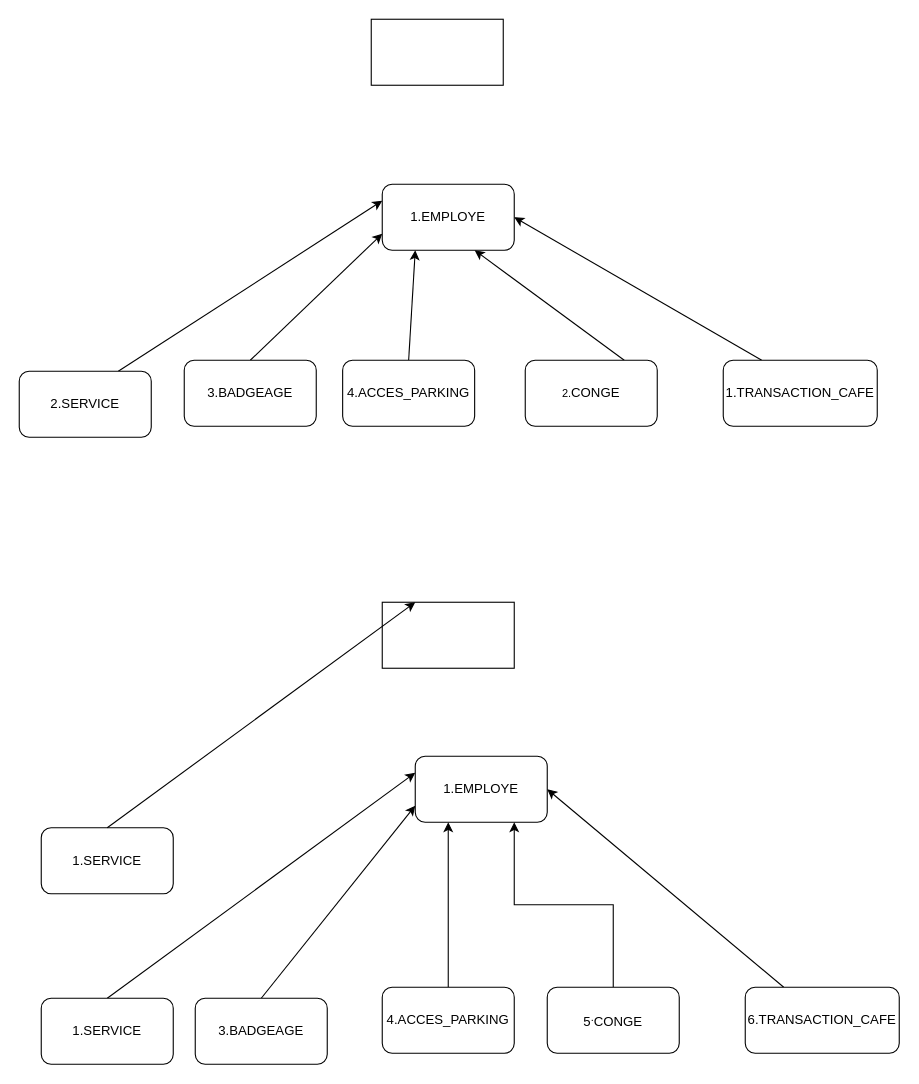
Some shapes in this 919 by 1084 pixel diagram are drawn without their labels. Here are the shapes that lost their labels. From the top down, the box of each, then its label:
(370, 18, 503, 85): ORDRE DE SUPPRESSION
(381, 601, 514, 668): ORDRE DE CREATION
